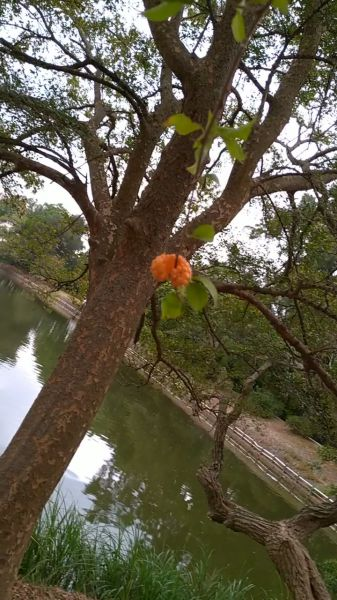eggs: (148, 247, 197, 292)
